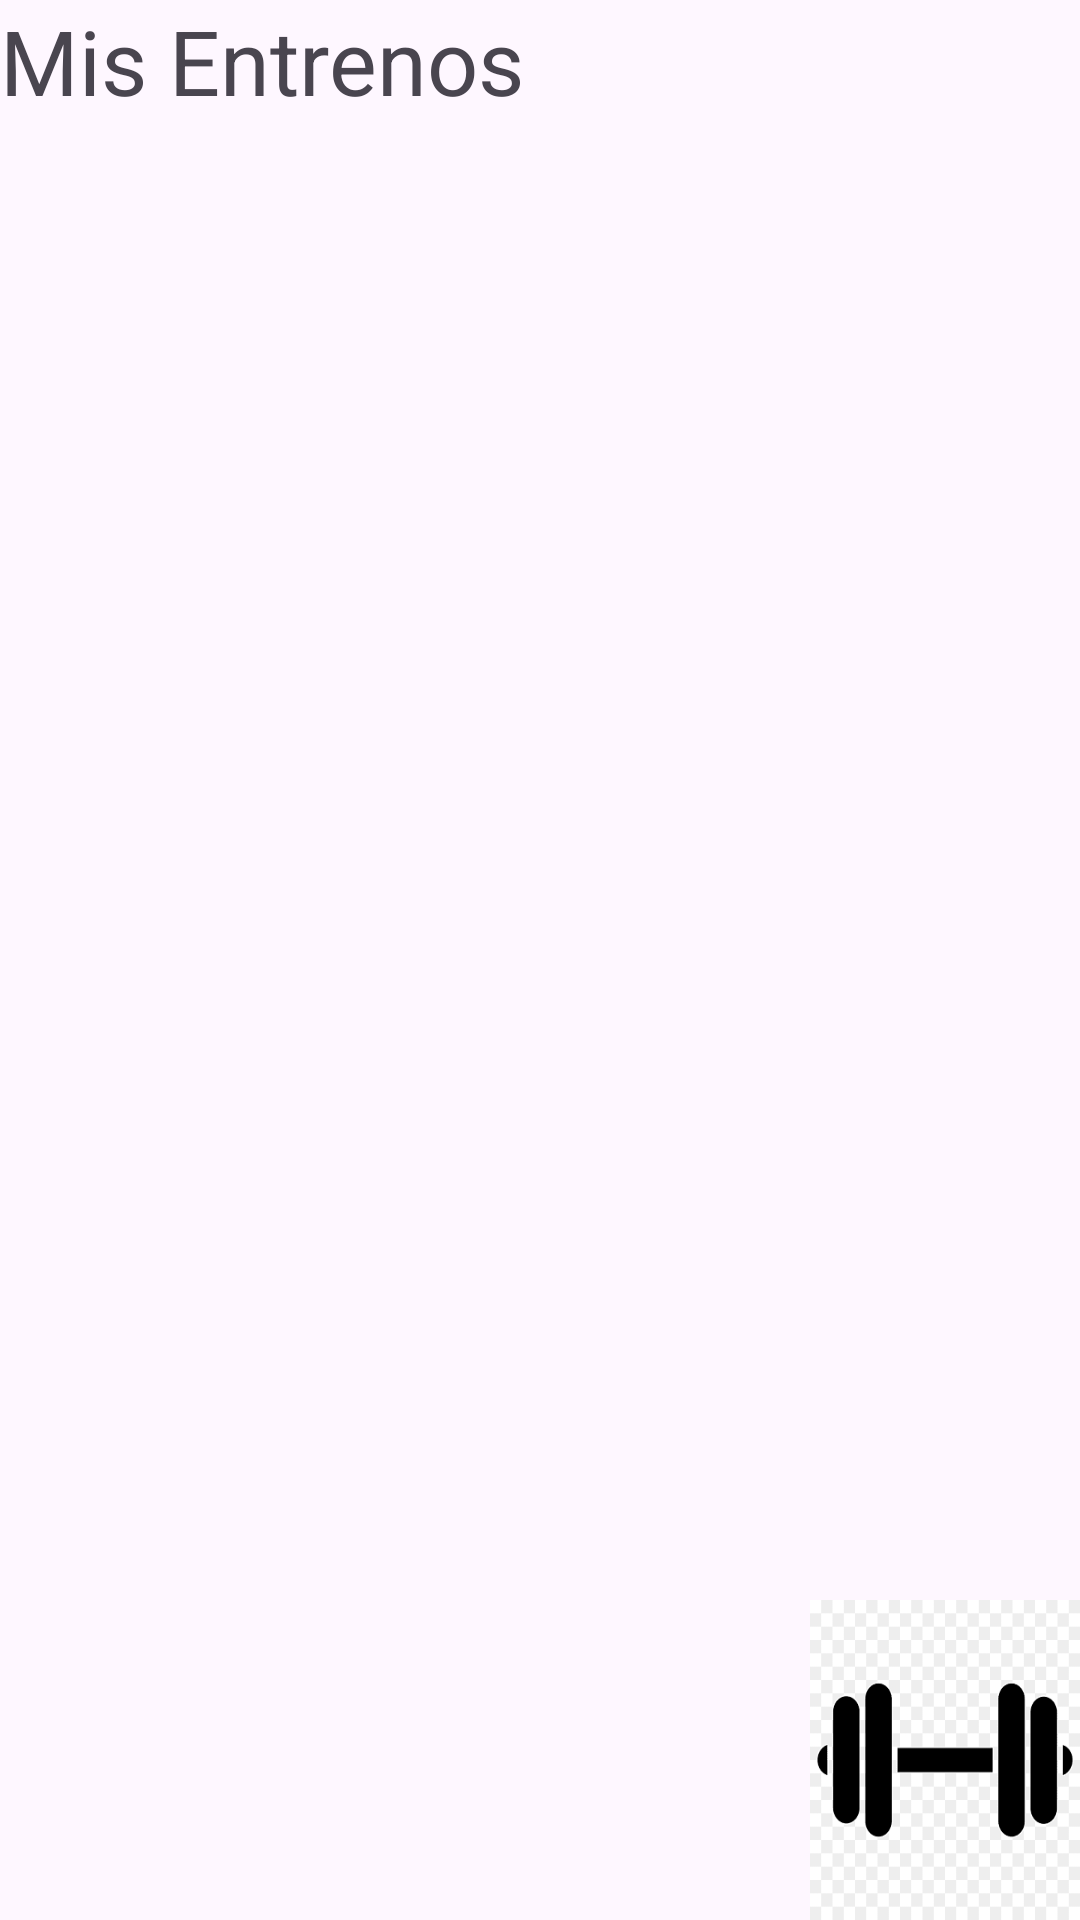

Icons on this 1080w x 1920h Android screen, each with the point to tap as (x=x, y=y):
pesa: (x=945, y=1760)
